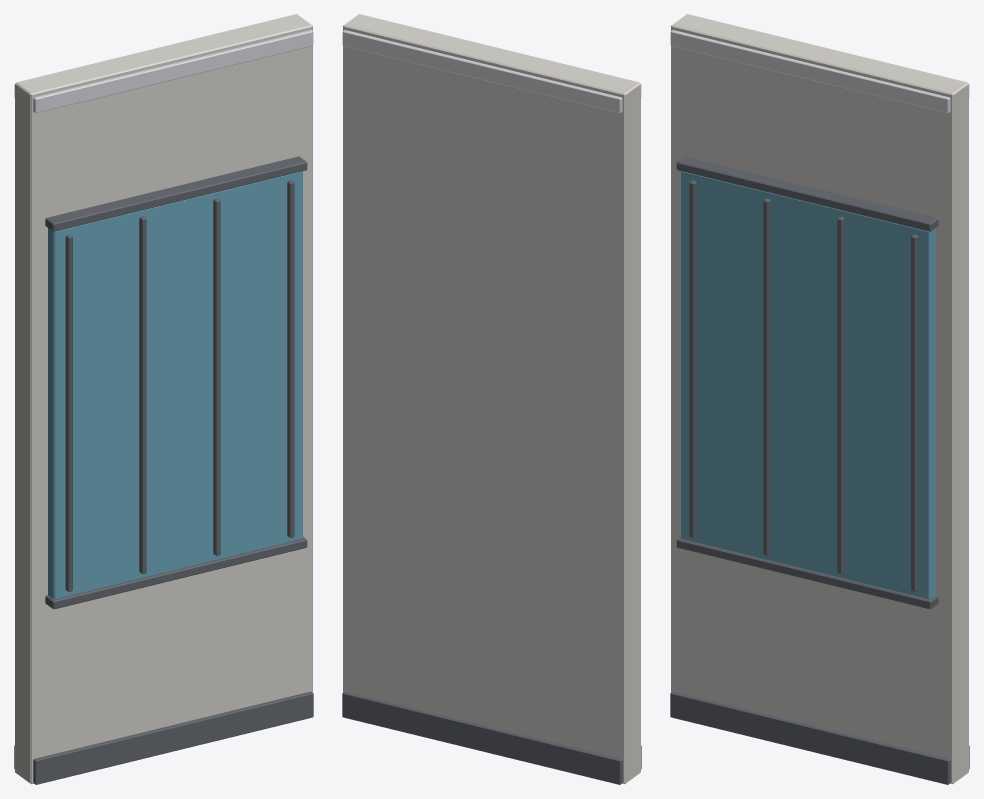
Rendered from university-lecture-hall-and-campus-theatre-wall-panel-0d6f5292__34743.glb.
The picture shows the model from 3 angles, left to right: view 1: azimuth 30°, elevation 25°; view 2: azimuth 150°, elevation 25°; view 3: azimuth 330°, elevation 25°; orthographic projection.
Parts seen in each view (by area): view 1: theatre-wall-panel; view 2: theatre-wall-panel; view 3: theatre-wall-panel.
Boxes of the visible parts, x1,y1,x2,y2 form: theatre-wall-panel: (14,14,313,784); theatre-wall-panel: (342,14,641,784); theatre-wall-panel: (670,14,969,784).
Bounding box in the file's own units: 1.2 × 2.8 × 0.21.
